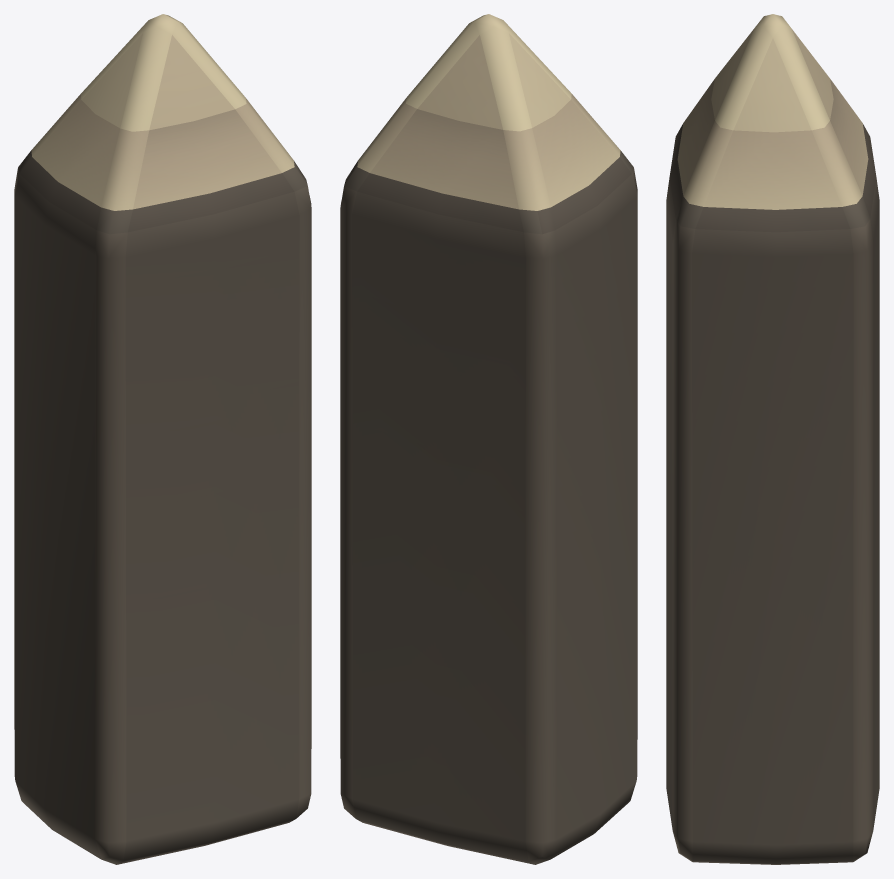
File: DryWood_Pole.fbx
The picture shows the model from 3 angles, left to right: view 1: azimuth 30°, elevation 25°; view 2: azimuth 150°, elevation 25°; view 3: azimuth 270°, elevation 25°; orthographic projection.
Parts seen in each view (by area): view 1: DryWood_Pole_LOD0; view 2: DryWood_Pole_LOD0; view 3: DryWood_Pole_LOD0.
Part boxes in pixels (<box>): DryWood_Pole_LOD0: <box>14,14,311,864</box>; DryWood_Pole_LOD0: <box>340,14,637,864</box>; DryWood_Pole_LOD0: <box>666,14,879,864</box>.
Size of what is drawn, in the model's own units: 0.2893 by 0.9647 by 0.2314.
